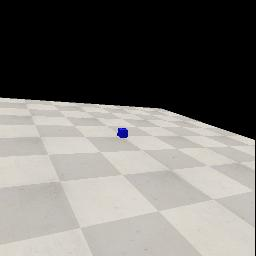box: (117, 128, 128, 138)
